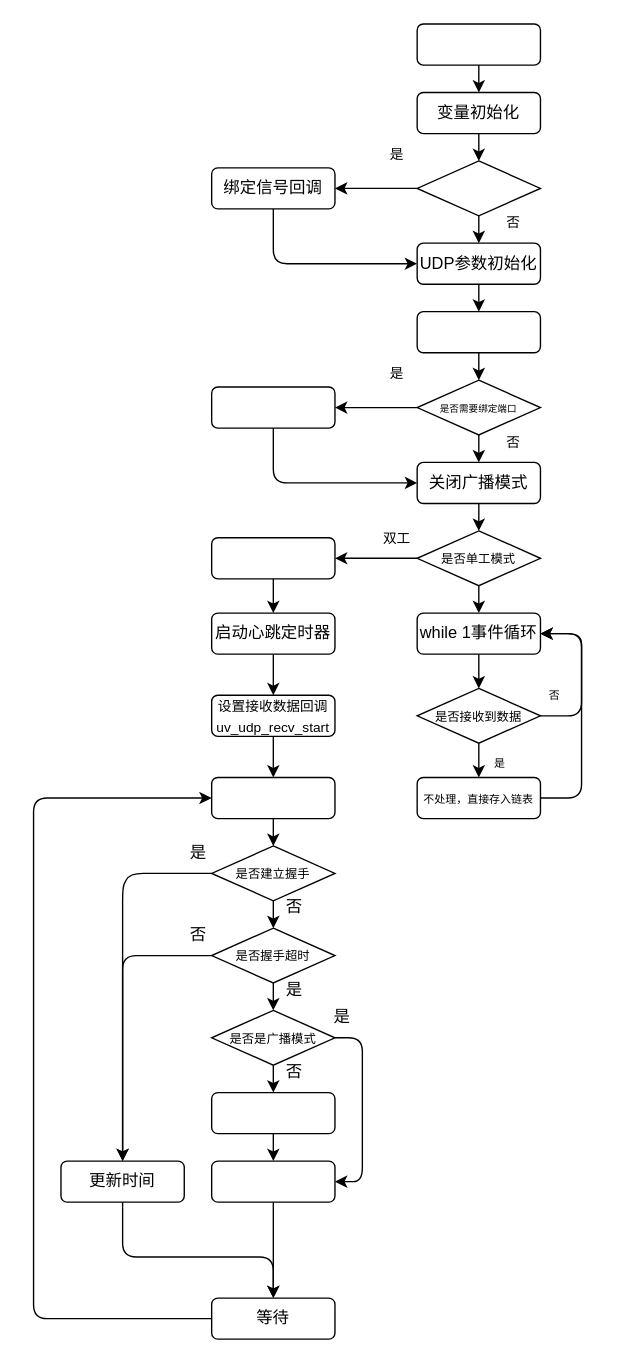
Image size: 617x1363. Some labels were removed from this diagram. The shapes that lost their labels are listed below. From the top down, each one's centre as x and y in pixels, then its label:
At point 478,44: "UDP线程启动 pthread_cent_udp_client".
At point 478,188: "是否需要监听信号".
At point 478,331: "UDP初始化".
At point 272,407: "端口绑定".
At point 272,557: "初始化心跳定时器".
At point 272,797: "定时器超时".
At point 272,1112: "设置为广播模式".
At point 272,1181: "发送广播报文".
